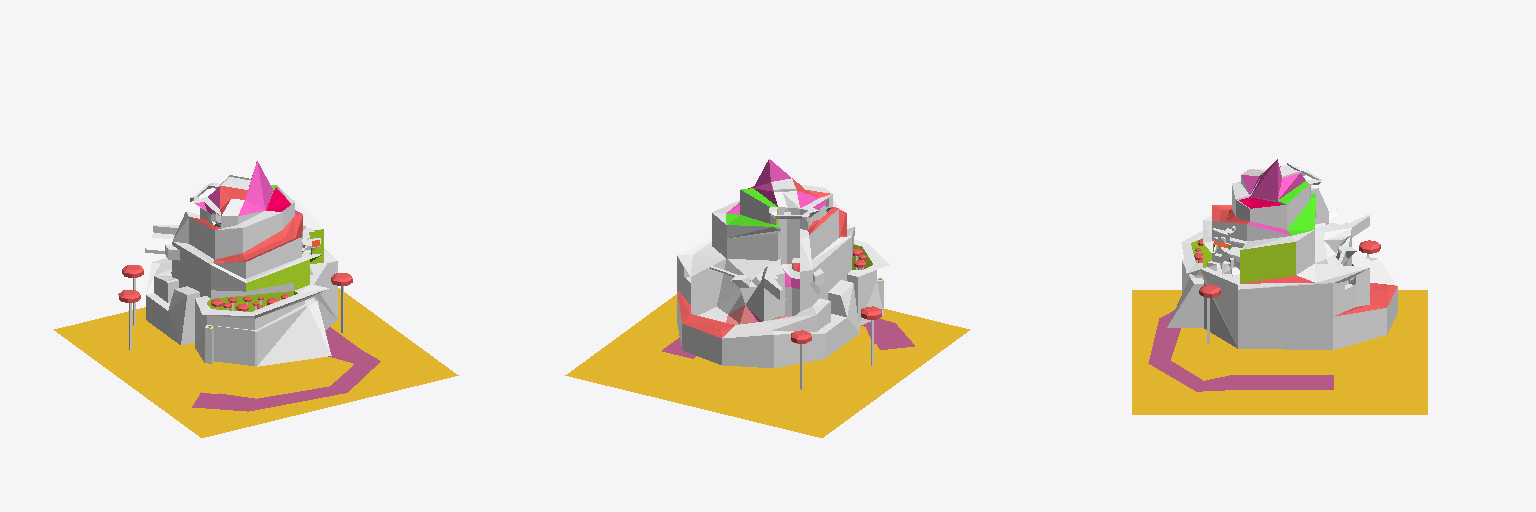
File: Tall Tall Mountain Area 1.obj
3 renders of one model, left to right at view 1: azimuth 30°, elevation 25°; view 2: azimuth 150°, elevation 25°; view 3: azimuth 270°, elevation 25°, orthographic.
Bounding box in the file's own units: 32766 × 23550 × 32766.